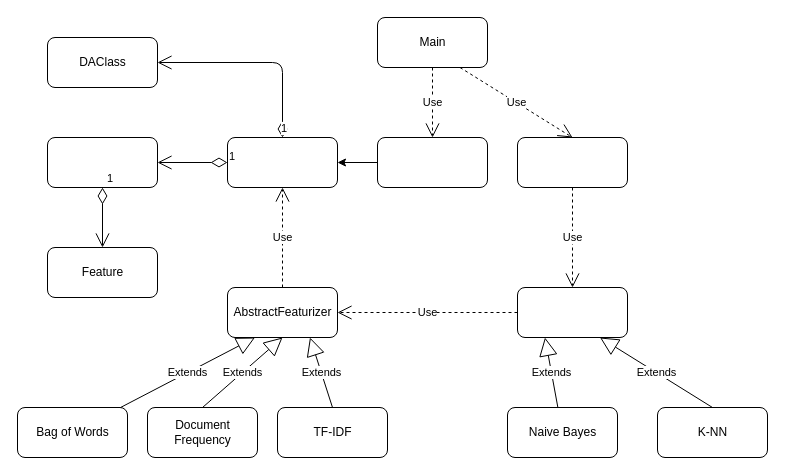
This 785x475 diagram has some shape labels left out. Each missing label, with the centre of its shape:
AbstractClassifier: point 572,312
ClassifyingHandler: point 572,162
Document: point 282,162
FeatureVector: point 102,162
Parser: point 432,162
